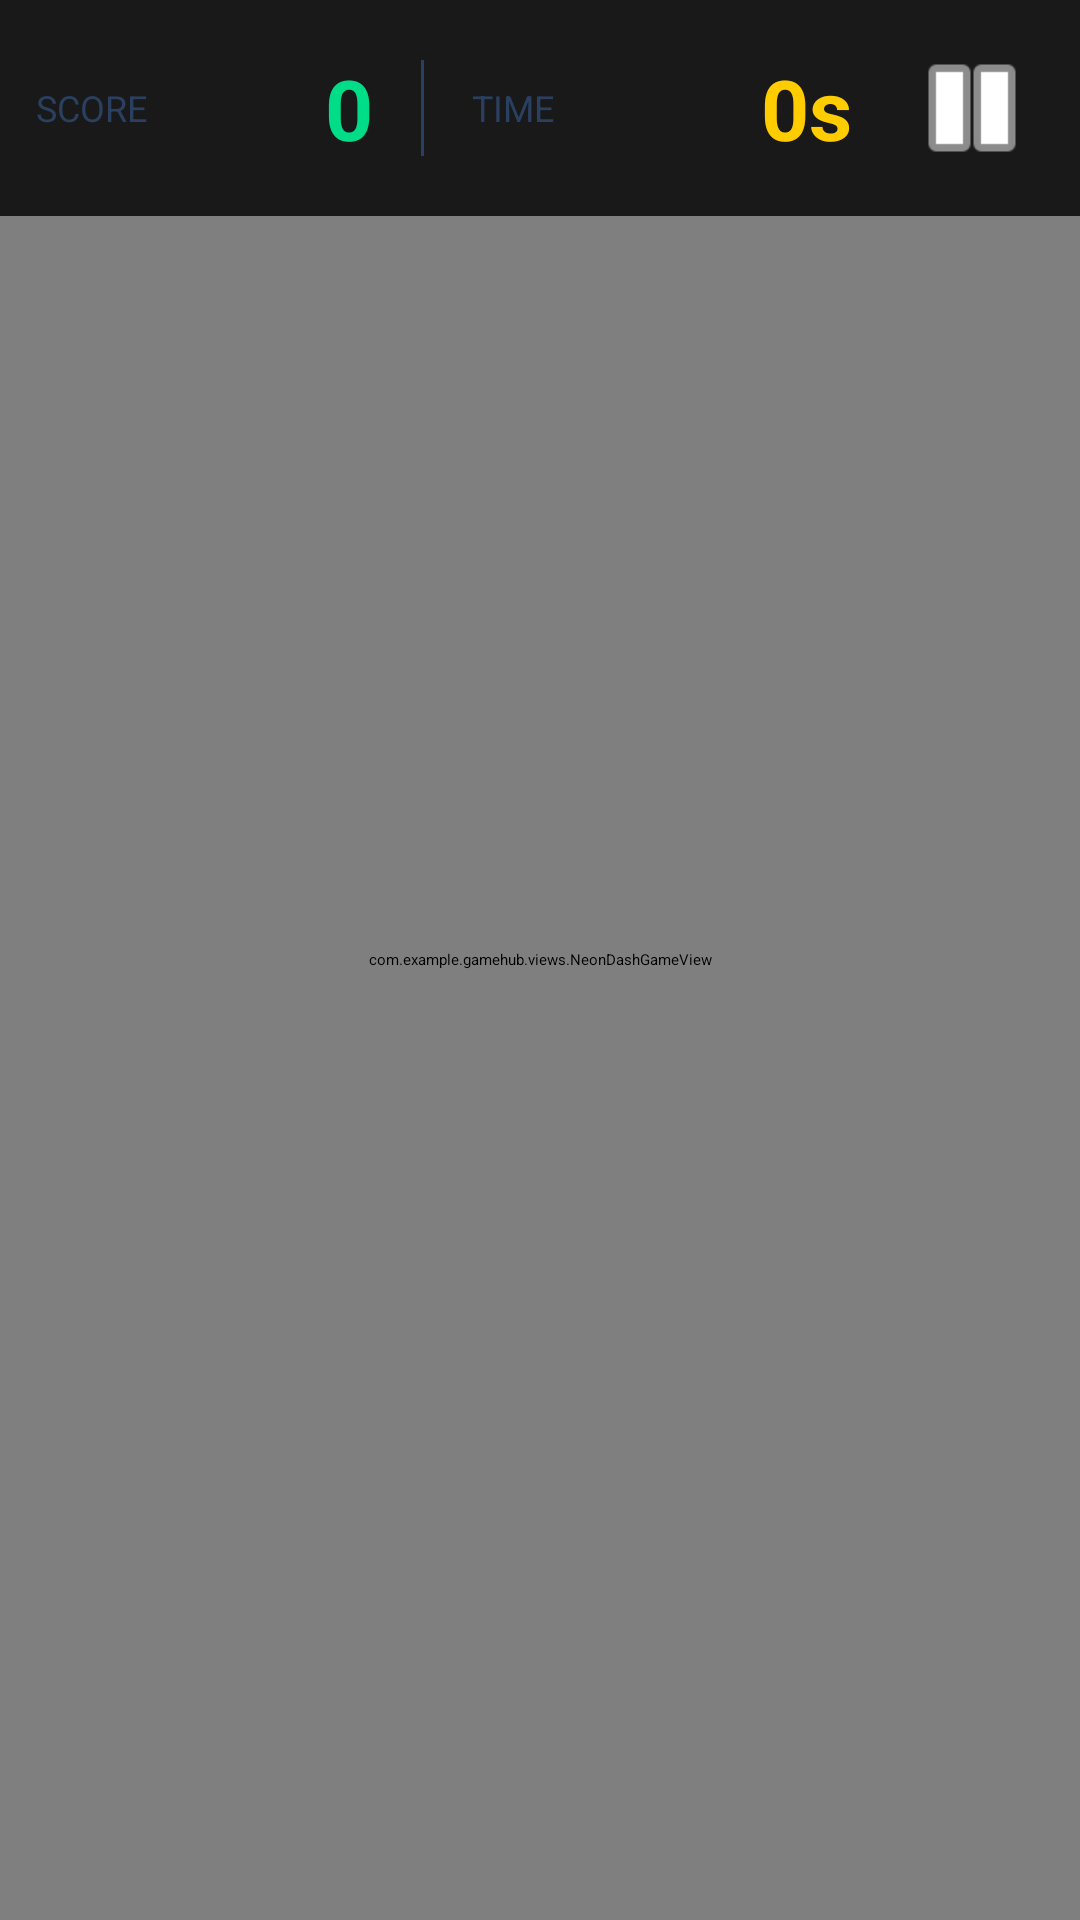

Where icons sit on this 1080×1920 app screen, as (x1, y1, x2, y2):
pause: (928, 64, 1016, 152)
